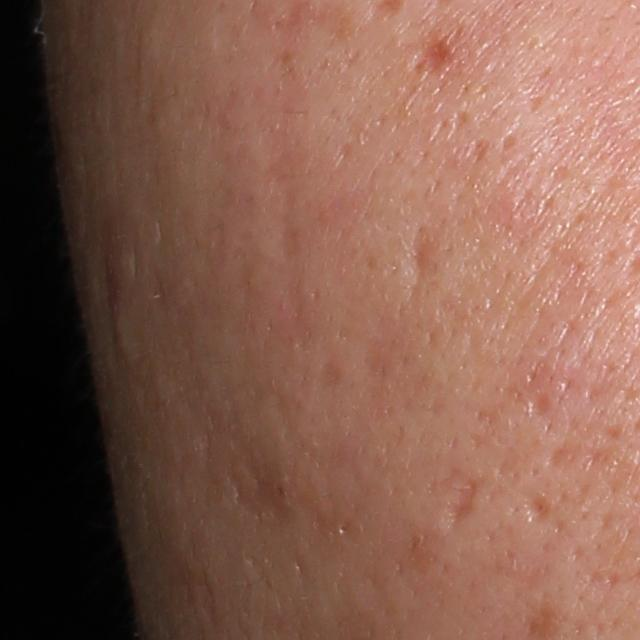atrophic_scar: (447, 472, 482, 529), (410, 219, 441, 282), (415, 35, 457, 76), (522, 493, 556, 531), (525, 386, 555, 425), (543, 443, 581, 473)
